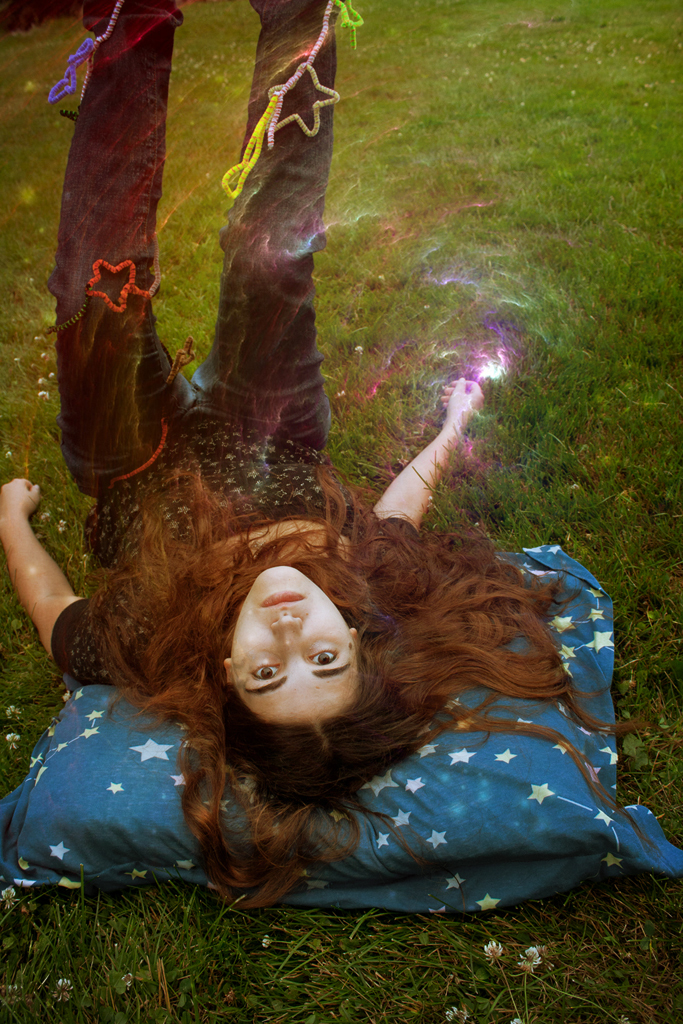face: (232, 566, 353, 737)
